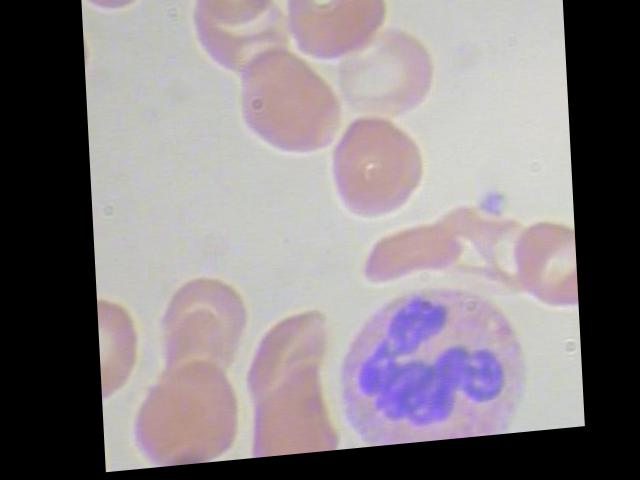Platelets: (472, 188, 512, 232)
Red Blood Cells: (229, 46, 345, 171), (227, 45, 343, 169), (324, 118, 421, 238), (333, 32, 434, 129), (234, 312, 324, 419), (124, 374, 222, 471), (151, 271, 241, 369), (277, 0, 385, 79), (353, 225, 460, 299), (234, 390, 338, 463), (503, 222, 574, 328), (185, 0, 278, 36), (81, 0, 164, 18), (271, 0, 364, 16), (385, 0, 477, 3)
White Blood Cells: (321, 279, 532, 456)
